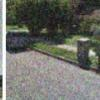cars: (6, 30, 31, 53)
